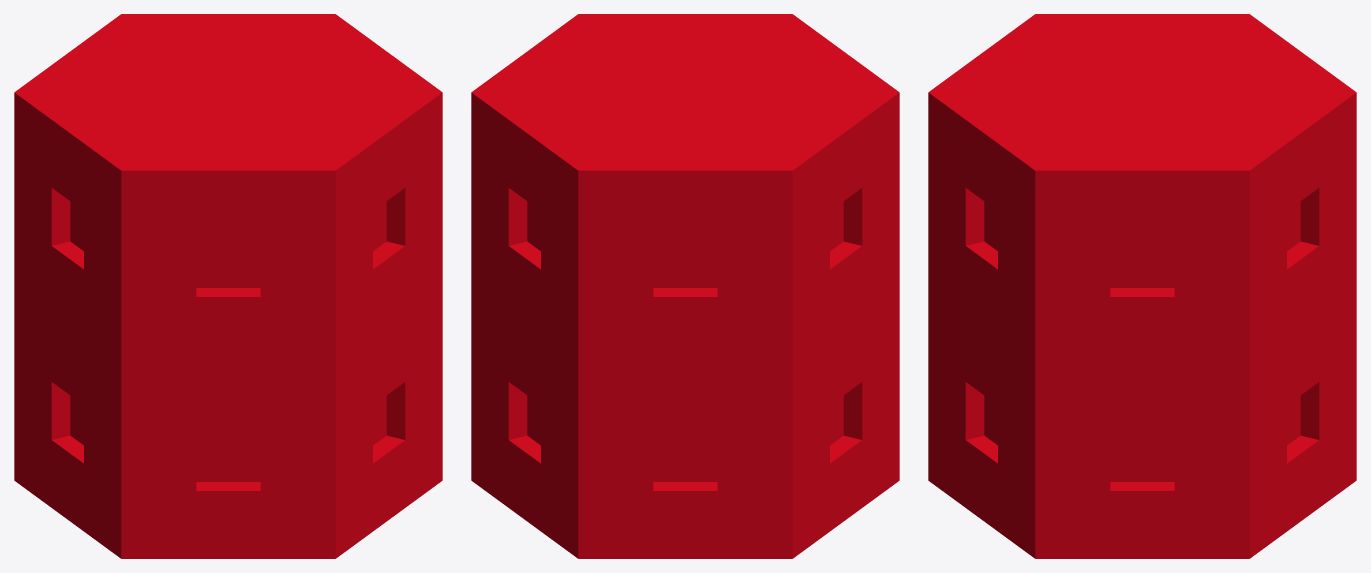
The model's file is storage.fbx.
The picture shows the model from 3 angles, left to right: view 1: azimuth 30°, elevation 25°; view 2: azimuth 150°, elevation 25°; view 3: azimuth 270°, elevation 25°; orthographic projection.
Visible parts, largest first — view 1: Цилиндр; view 2: Цилиндр; view 3: Цилиндр.
Boxes of the visible parts, x1,y1,x2,y2 form: Цилиндр: (14,14,442,558); Цилиндр: (471,14,899,558); Цилиндр: (928,14,1356,558).
Size of the model in its own units: 173 by 200 by 200.
